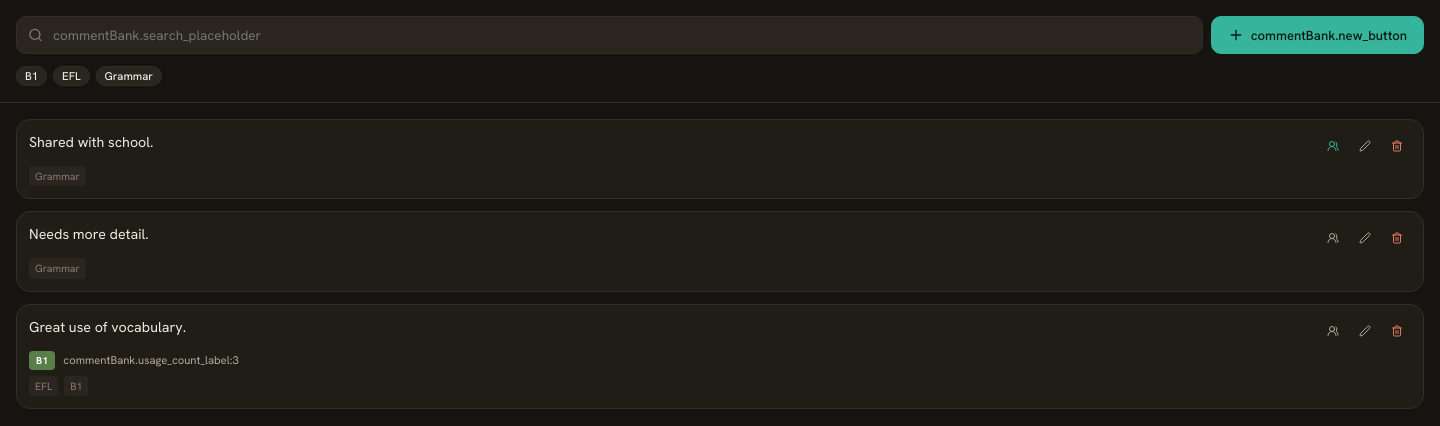
CommentBankManager coverage › filters through the compact tag chips with toggle-off
Click the button "Grammar": (129, 76) x1=96 y1=66 x2=162 y2=86
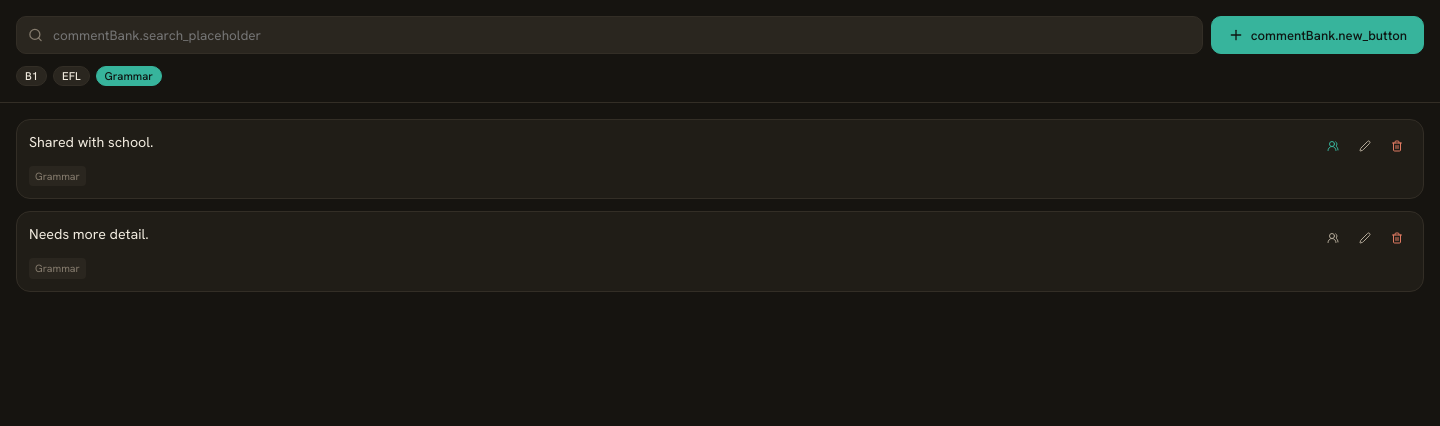
Expected: the text "Great use of vocabulary." is gone
Click the button "Grammar": (129, 76) x1=96 y1=66 x2=162 y2=86
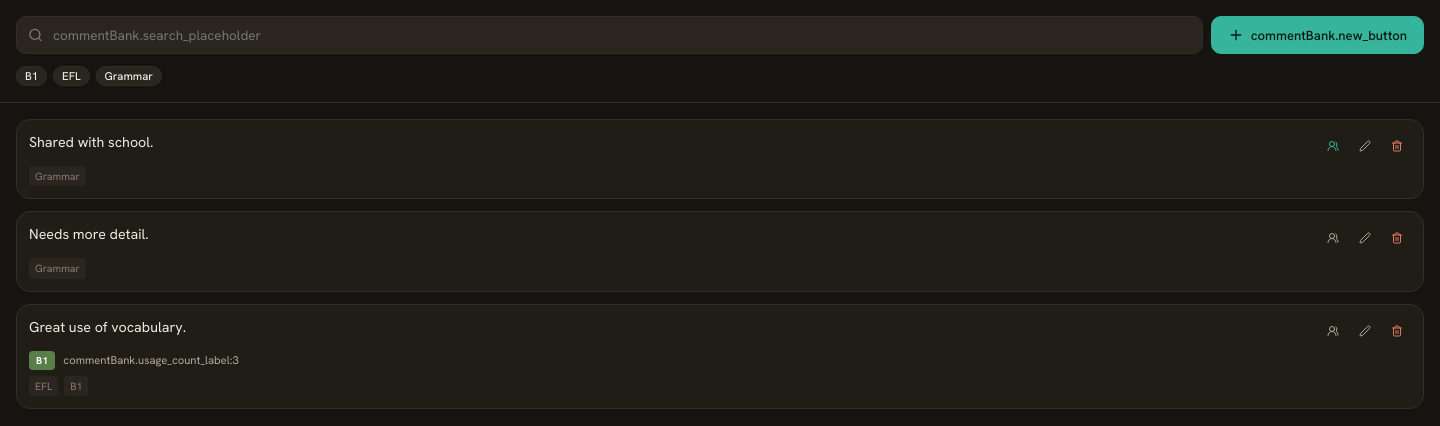
Expected: the text "Great use of vocabulary." is shown, x1=29 y1=318 x2=186 y2=336
